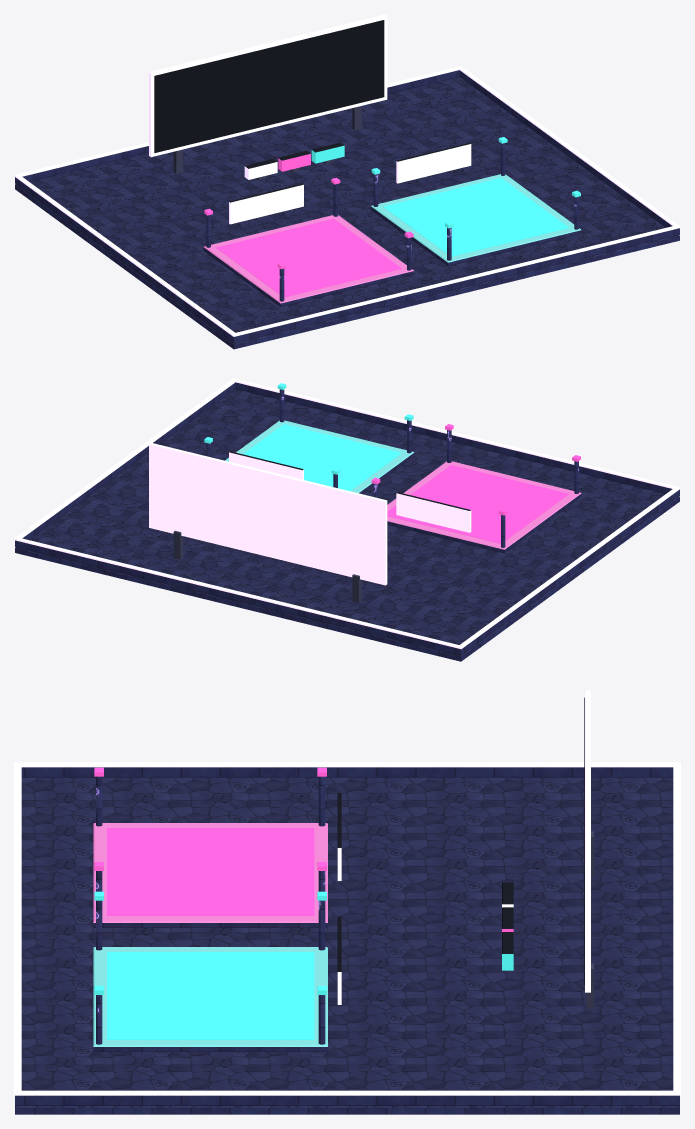
Rendered from skyreach_nexus_lobby_v34.glb.
3 renders of one model, top to bottom at view 1: azimuth 30°, elevation 25°; view 2: azimuth 150°, elevation 25°; view 3: azimuth 270°, elevation 25°, orthographic. The views are drawn at different scales.
Parts seen in each view (by area): view 1: skin; view 2: skin; view 3: skin.
Part boxes in pixels (left/top/right/bottom): skin: left=14, top=14, right=680, bottom=349; skin: left=14, top=378, right=680, bottom=661; skin: left=14, top=690, right=680, bottom=1114.
Size of the model in its own units: 40.1 by 9.7 by 34.1.
Materials: 10 (3 with a texture image).
